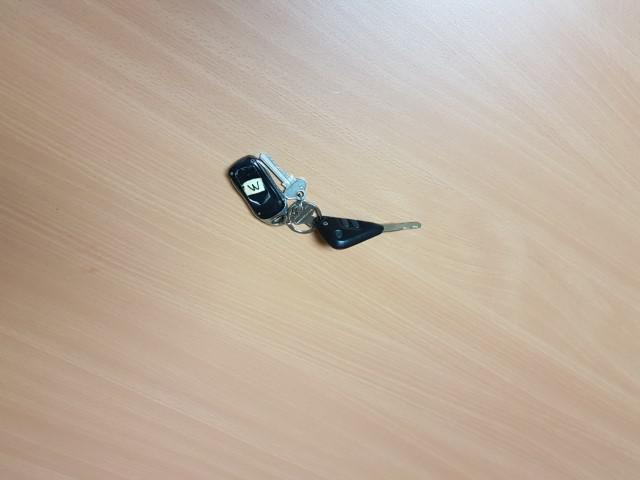key: (309, 212, 425, 251)
